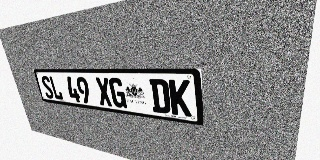4: (65, 76, 81, 102)
9: (75, 77, 92, 104)
D: (149, 79, 171, 114)
G: (108, 78, 127, 109)
K: (169, 79, 192, 117)
L: (48, 76, 64, 100)
S: (40, 76, 55, 99)
X: (95, 77, 113, 107)
